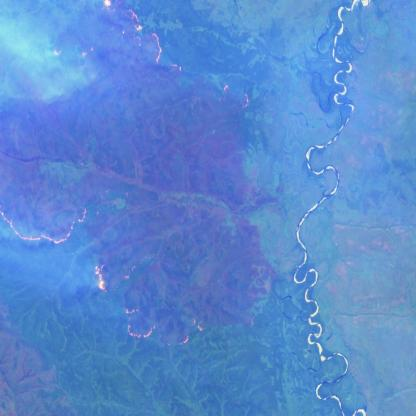fire: (0, 190, 189, 353), (52, 0, 166, 77)
